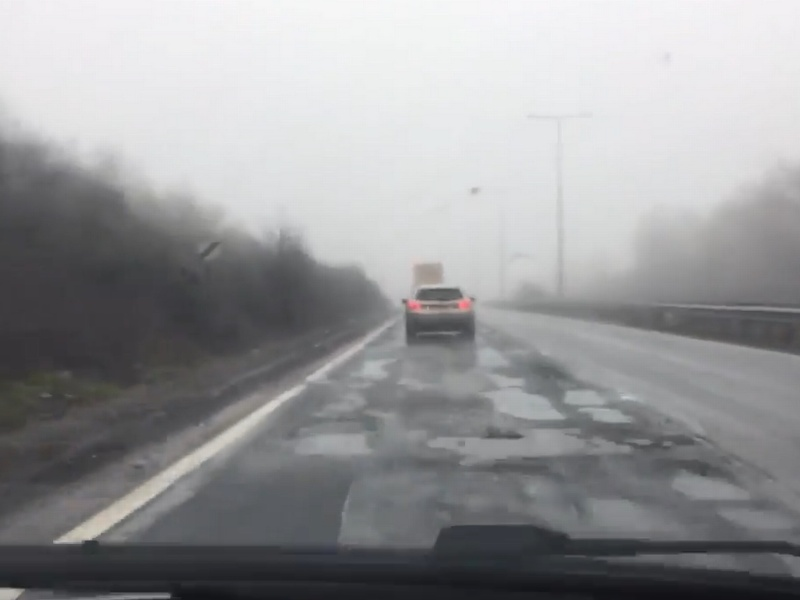pothole: (483, 387, 562, 423), (296, 428, 370, 460), (346, 354, 398, 383)
